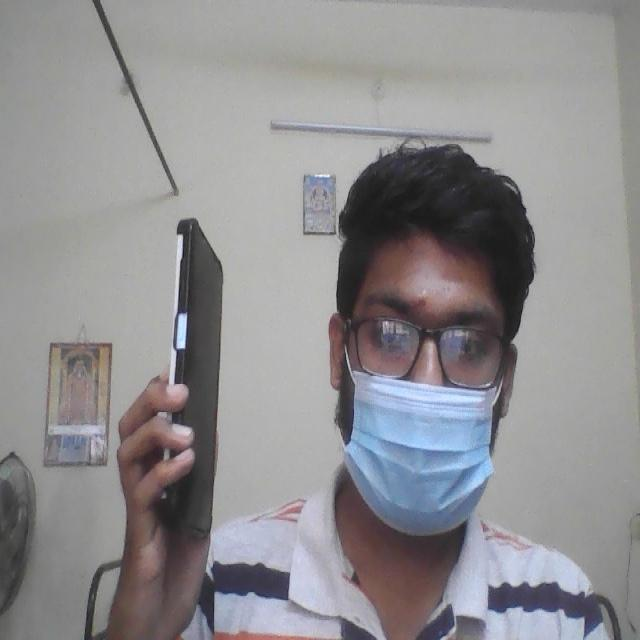Mobile: (159, 202, 229, 542)
